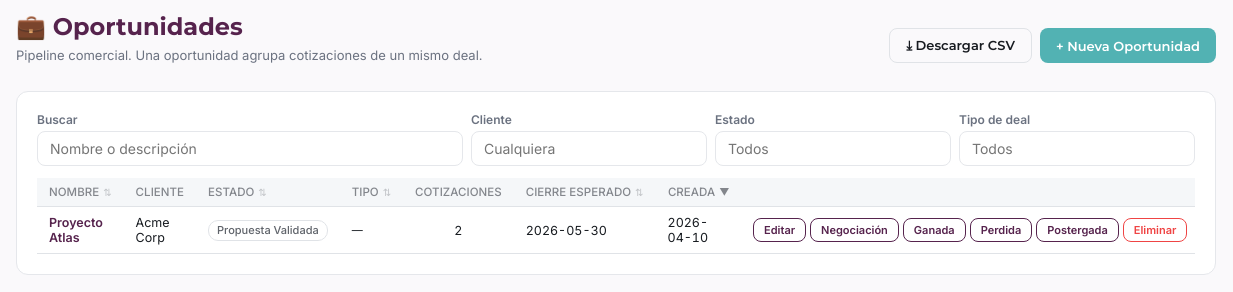
it: Opportunities module › loads clients list into the client filter dropdown
Expected: the link "Proyecto Atlas" is shown, [49,215,103,245]
// Open the dropdown and verify the client option is present
Click the dropdown named "Filtro por cliente": [589, 148] box [471,131,707,166]
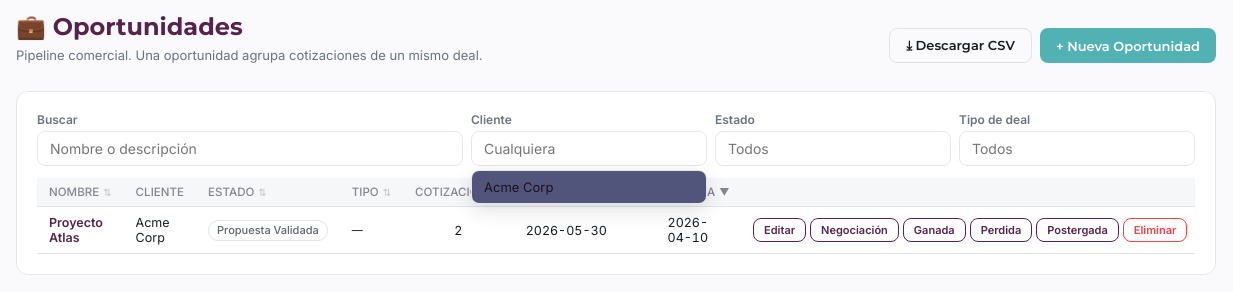
Expected: the list is shown, [471,170,707,204]
Expected: the option "Acme Corp" is shown, [472,171,706,203]
